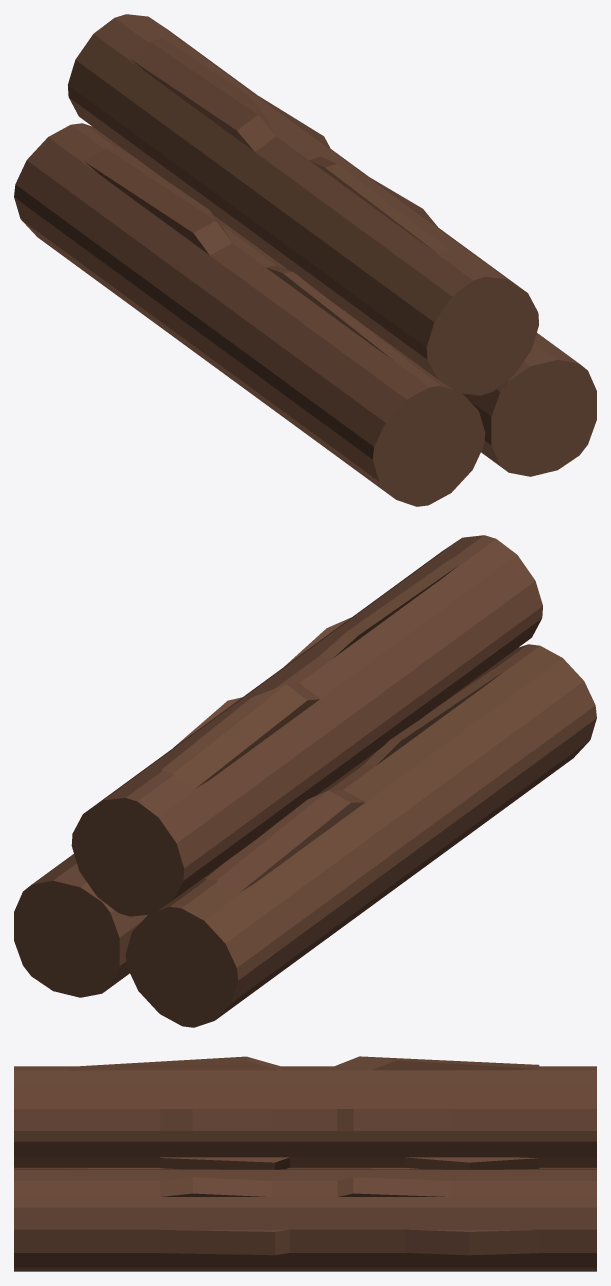
Rendered from trunk1.fbx.
The picture shows the model from 3 angles, top to bottom: view 1: azimuth 30°, elevation 25°; view 2: azimuth 150°, elevation 25°; view 3: azimuth 270°, elevation 25°; orthographic projection. The views are drawn at different scales.
Visible parts, largest first — view 1: Cube.157, Cube.155, Cube.156, Cube.154, Cube.149; view 2: Cube.156, Cube.154, Cube.157, Cube.155, Cube.148; view 3: Cube.157, Cube.156, Cube.149, Cube.148.
Boxes of the visible parts, bbox=[...] form: Cube.157: bbox=[247, 145, 538, 395]; Cube.155: bbox=[194, 255, 485, 506]; Cube.156: bbox=[68, 14, 345, 247]; Cube.154: bbox=[14, 123, 271, 367]; Cube.149: bbox=[463, 333, 596, 476]; Cube.156: bbox=[71, 666, 363, 916]; Cube.154: bbox=[125, 775, 417, 1027]; Cube.157: bbox=[265, 535, 542, 768]; Cube.155: bbox=[340, 644, 596, 889]; Cube.148: bbox=[14, 854, 147, 997]; Cube.157: bbox=[14, 1056, 306, 1169]; Cube.156: bbox=[304, 1056, 596, 1169]; Cube.149: bbox=[14, 1168, 306, 1271]; Cube.148: bbox=[306, 1168, 596, 1271].
Bounding box in the file's own units: 292 × 274 × 789.
